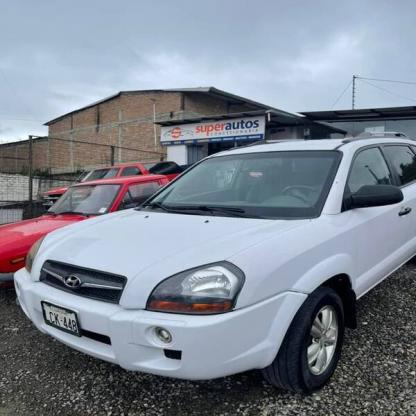Placa: (38, 296, 87, 340)
